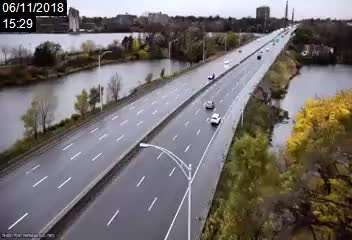personal_car: (209, 112, 222, 125), (205, 99, 214, 110), (207, 71, 214, 79)
